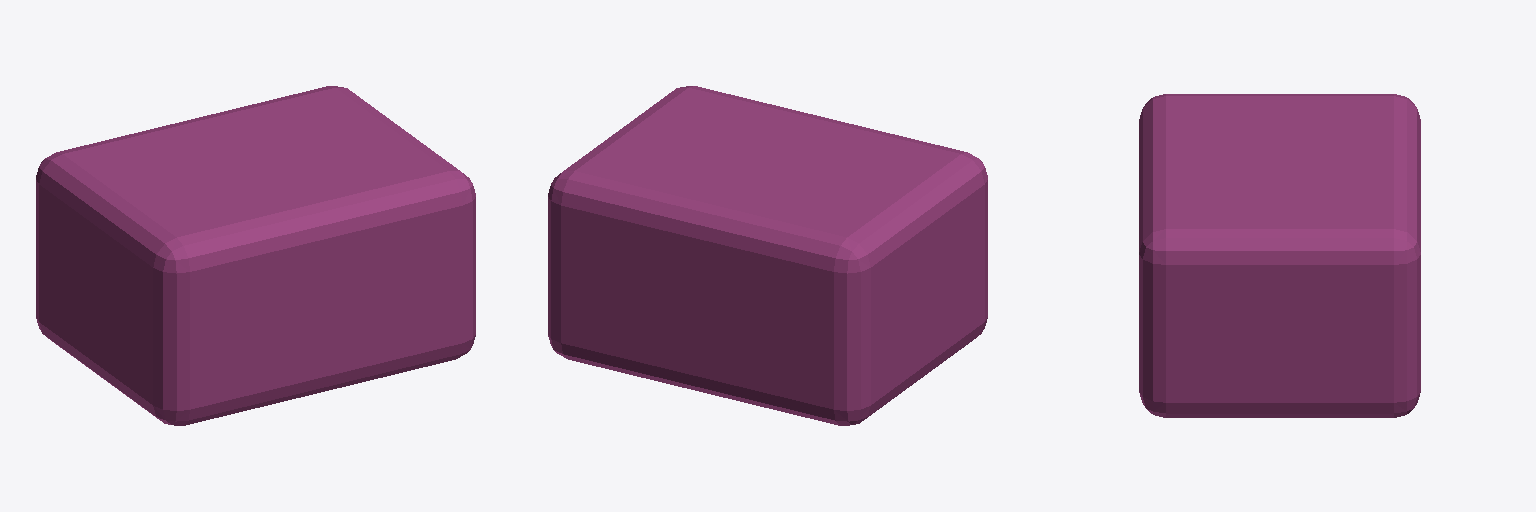
File: tile.obj
3 renders of one model, left to right at view 1: azimuth 30°, elevation 25°; view 2: azimuth 150°, elevation 25°; view 3: azimuth 270°, elevation 25°, orthographic.
Parts seen in each view (by area): view 1: Tile_Cube; view 2: Tile_Cube; view 3: Tile_Cube.
Boxes of the visible parts, x1,y1,x2,y2 form: Tile_Cube: [36, 86, 475, 425]; Tile_Cube: [548, 86, 987, 425]; Tile_Cube: [1139, 94, 1420, 417].
Bounding box in the file's own units: 3.4 × 1.9 × 2.6.